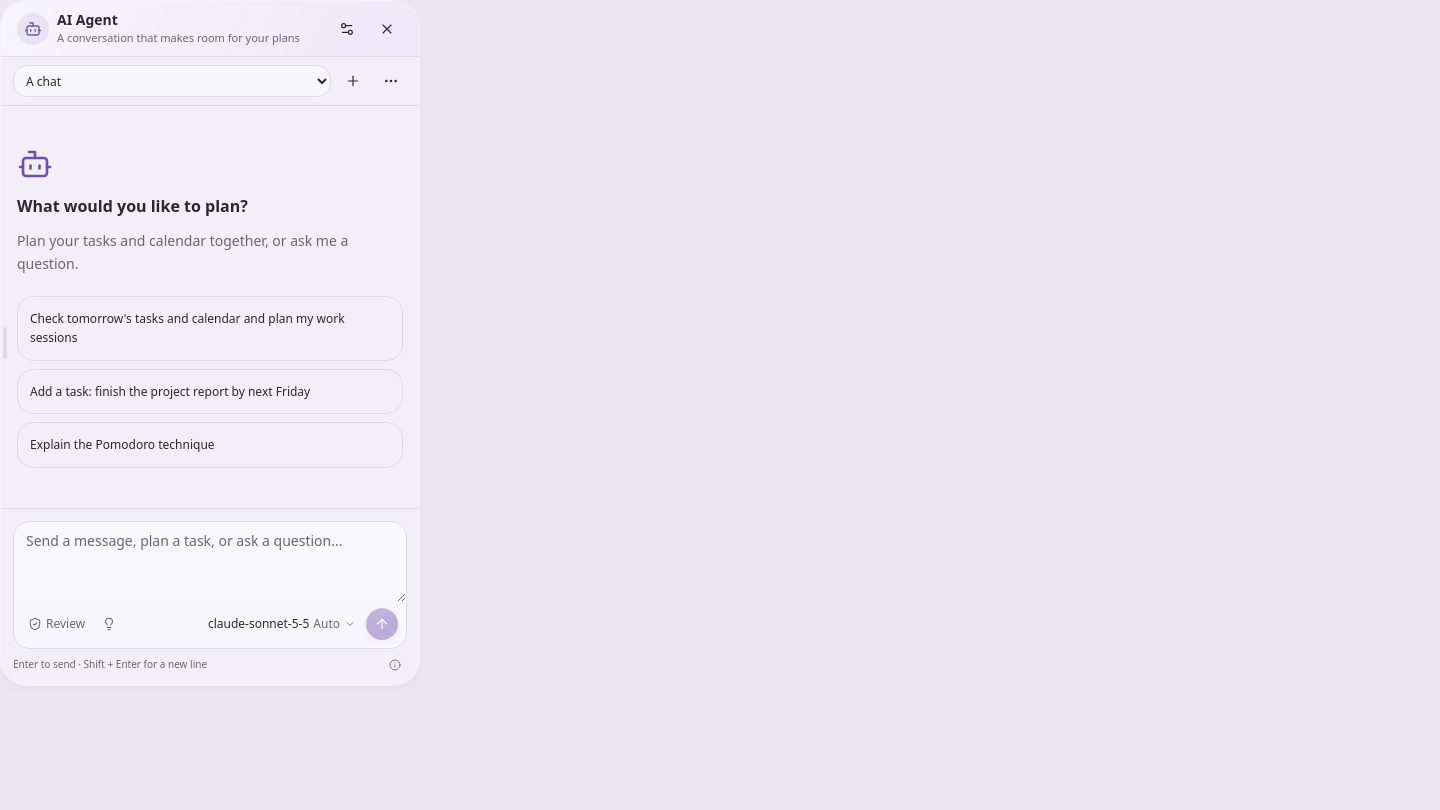
Test case: AI Agent sidebar › keeps controls inside the composer and opens details without submitting the draft
Expected: the dropdown labelled "Chat model" is not shown
Expected: the dropdown labelled "Thinking level" is not shown
Type "An unfinished question" into the text box named "Message AI Agent".
click(210, 562); type("An unfinished question")  # box x1=14 y1=522 x2=406 y2=602
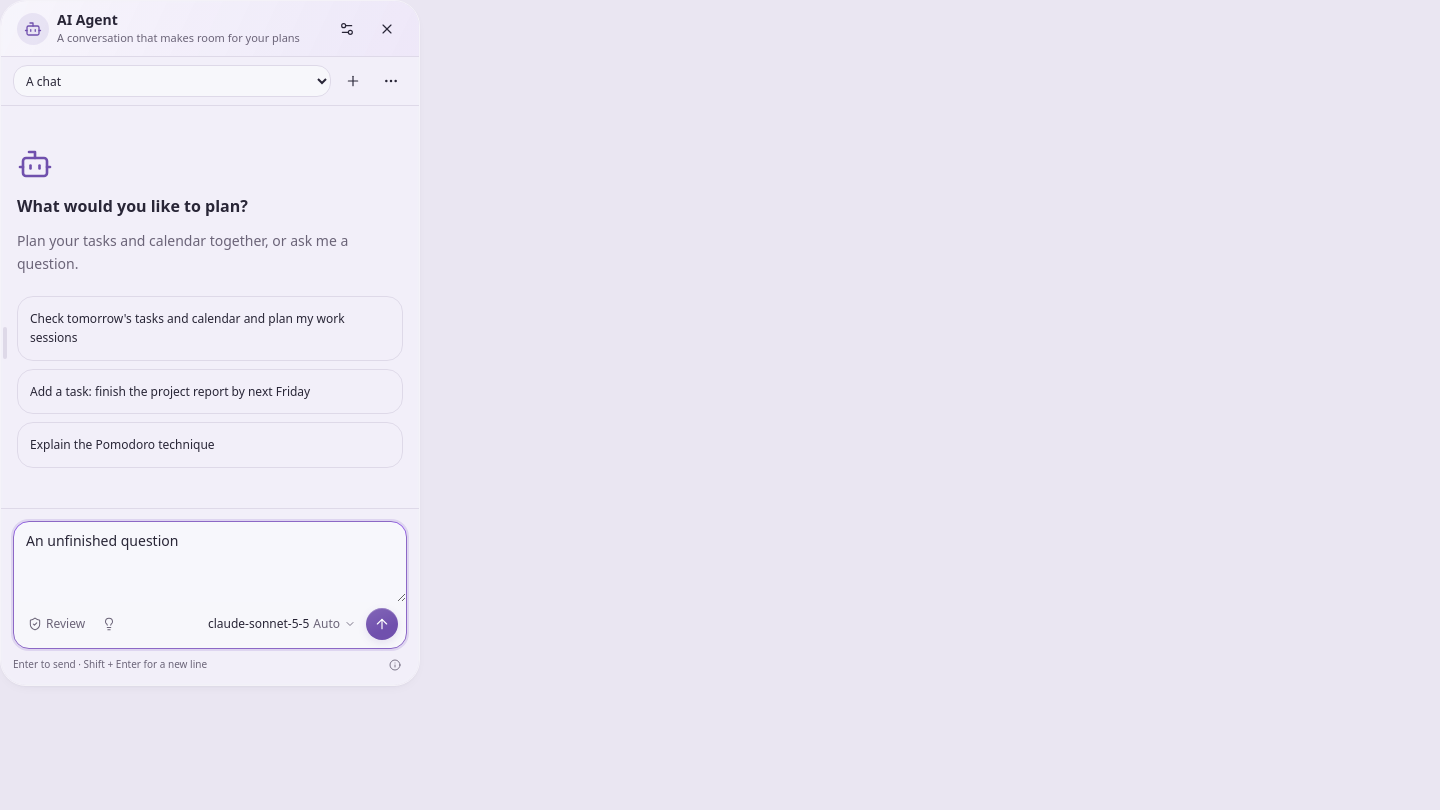
Click the button with aria-label "Model and thinking settings".
click(282, 624)  # box x1=202 y1=608 x2=362 y2=640
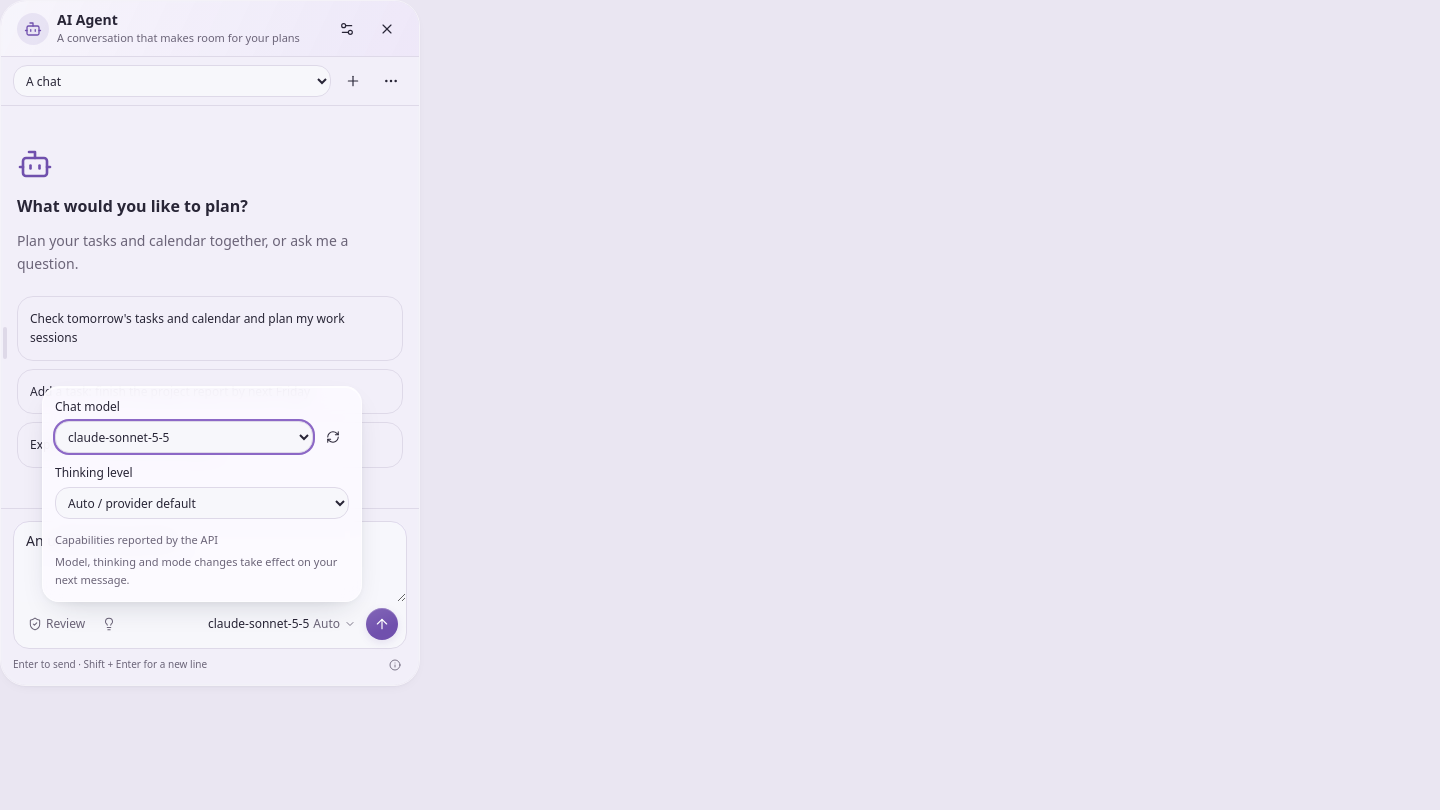
Now the dialog named "Model and thinking settings" is shown, box x1=42 y1=386 x2=362 y2=602
Press Escape
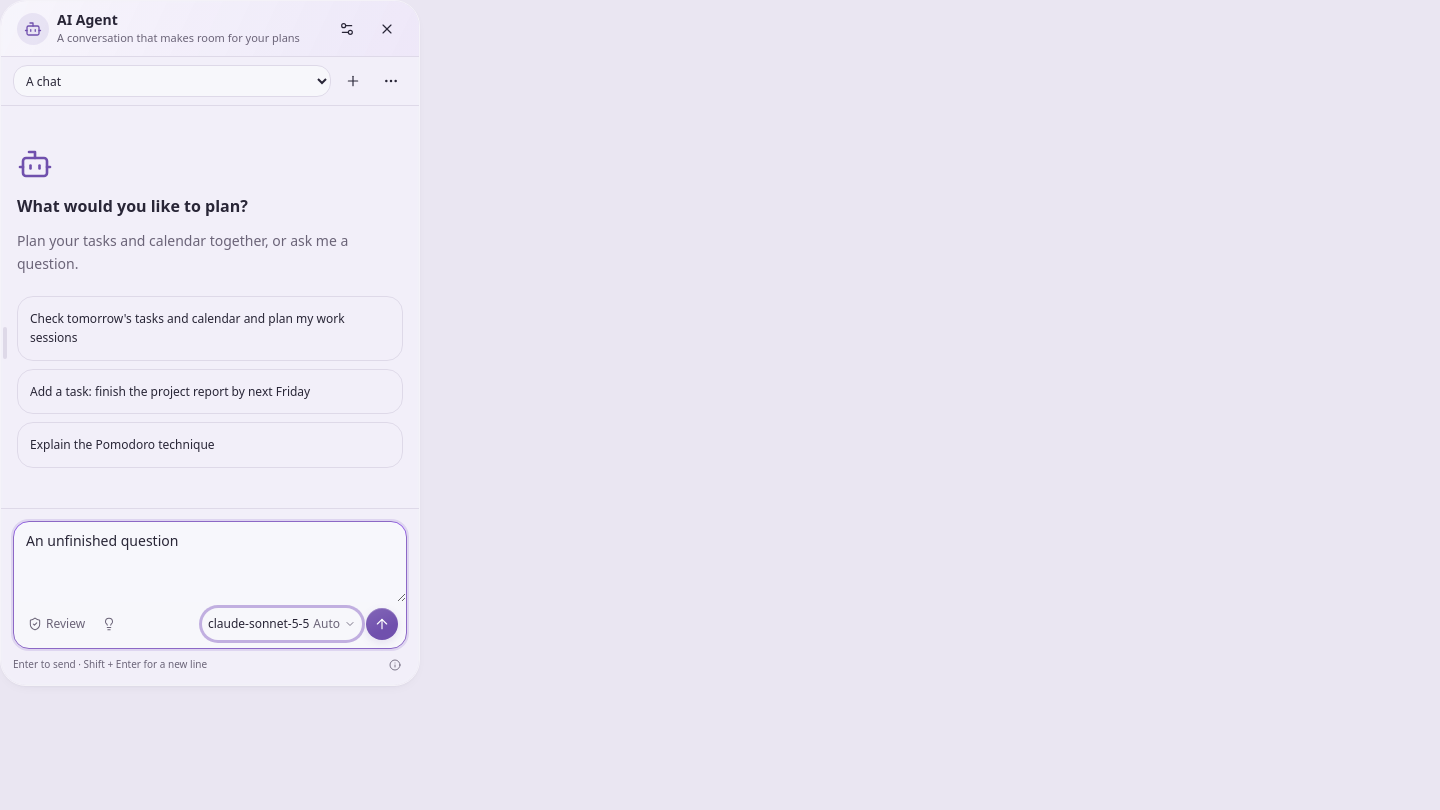
Now the label "Chat model" is gone
